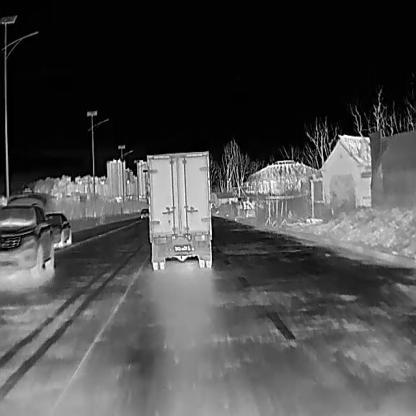car: (145, 149, 213, 271), (0, 190, 53, 278), (43, 210, 71, 248), (139, 207, 150, 219)
